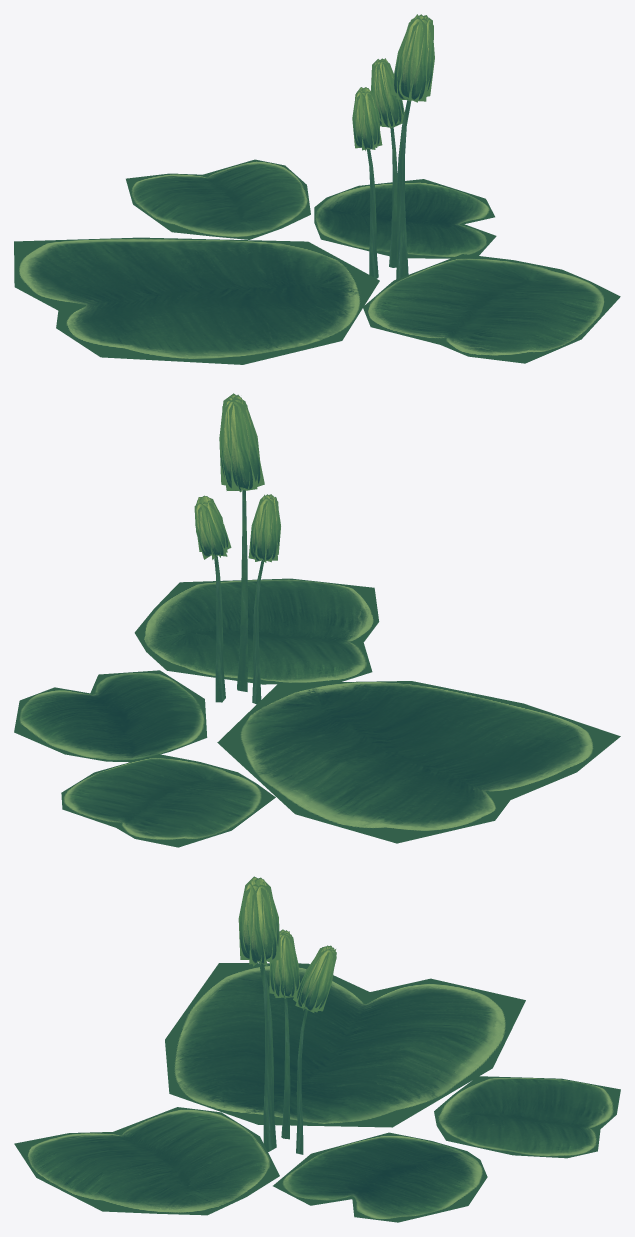
The model's file is SM_Plant_WaterLilies_04.fbx.
The picture shows the model from 3 angles, top to bottom: view 1: azimuth 30°, elevation 25°; view 2: azimuth 150°, elevation 25°; view 3: azimuth 270°, elevation 25°; orthographic projection. The views are drawn at different scales.
Visible parts, largest first — view 1: SM_Plant_WaterLilies_04_LOD0; view 2: SM_Plant_WaterLilies_04_LOD0; view 3: SM_Plant_WaterLilies_04_LOD0.
Part boxes in pixels (x1,y1,x2,y2): SM_Plant_WaterLilies_04_LOD0: [14, 14, 620, 364]; SM_Plant_WaterLilies_04_LOD0: [14, 393, 620, 847]; SM_Plant_WaterLilies_04_LOD0: [14, 876, 620, 1222].
Size of the model in its own units: 45.97 by 48.94 by 24.84.
Materials: 1 (1 with a texture image).
